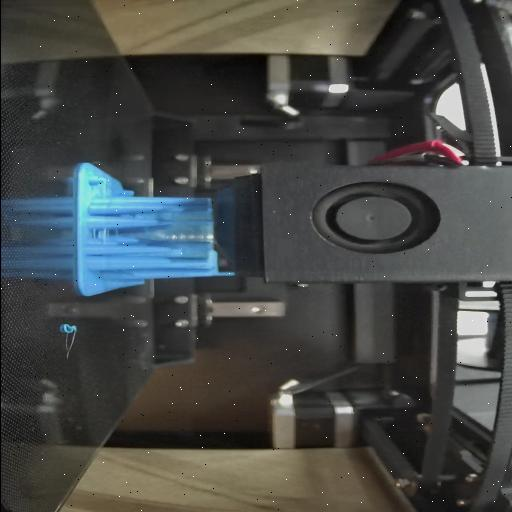stringing: (162, 210, 212, 256), (86, 227, 110, 243)
